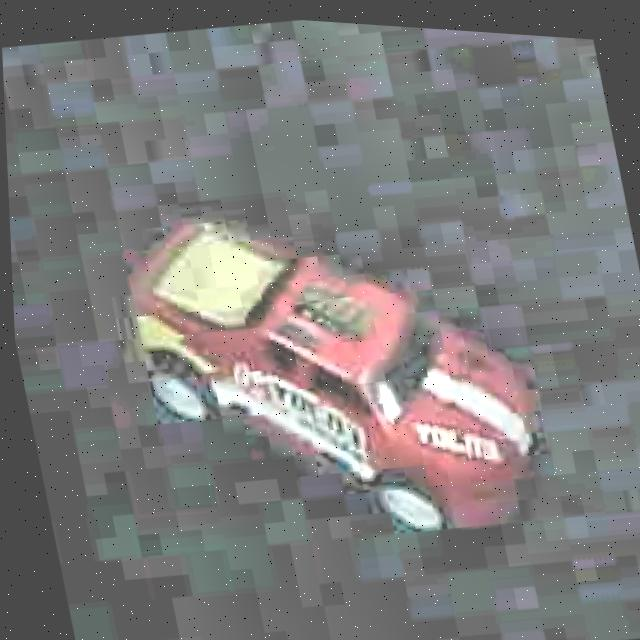car: (103, 157, 570, 595)
